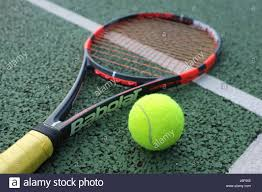tennis_ball: (127, 92, 185, 153)
